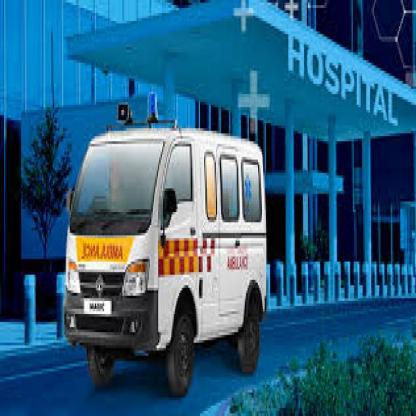priority: (63, 119, 271, 395)
